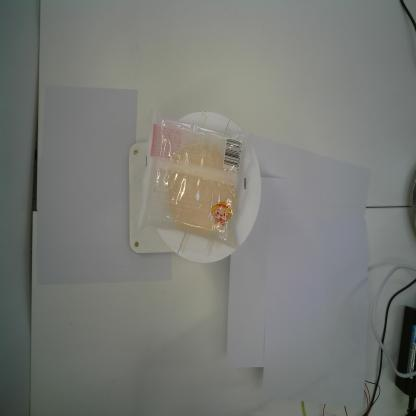Dessert: (136, 112, 256, 254)
